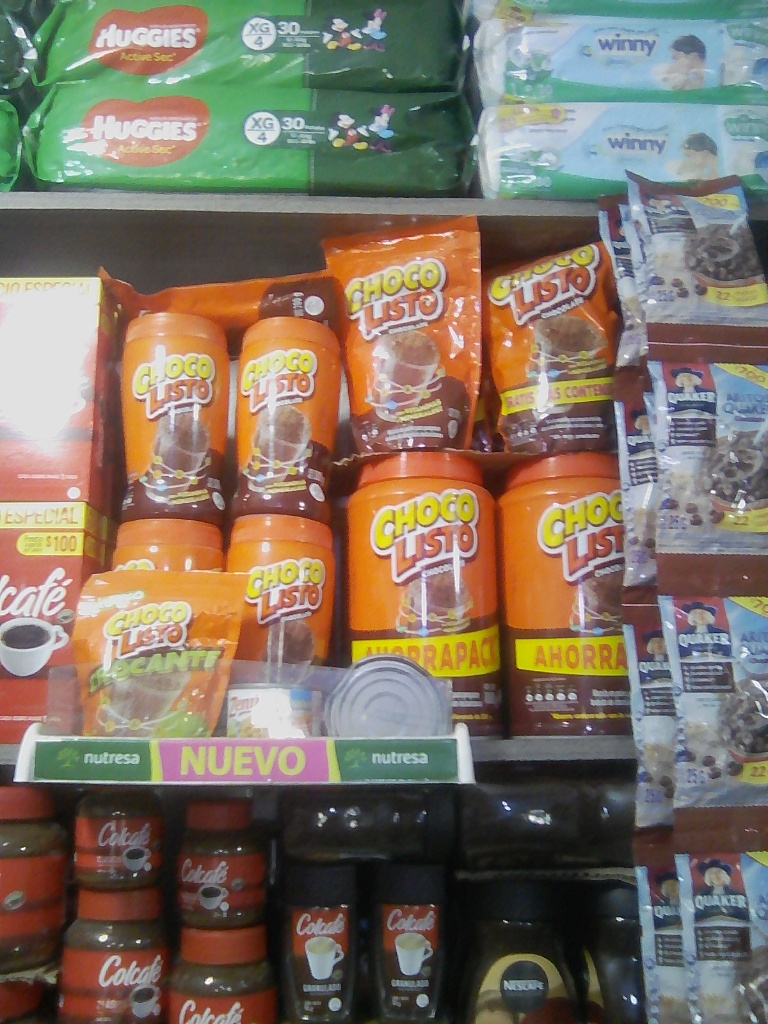COL0170102DYP10000: (78, 571, 227, 736)
COL0170103DYP20000: (331, 223, 486, 452)
COL0170103TRR00100: (352, 456, 503, 735)
COL0170103TRR30000: (114, 308, 228, 521)
